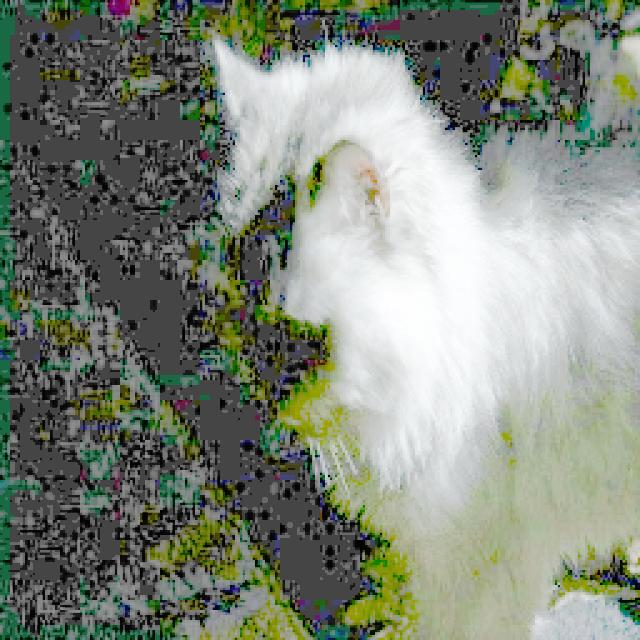cat: (205, 37, 640, 640)
